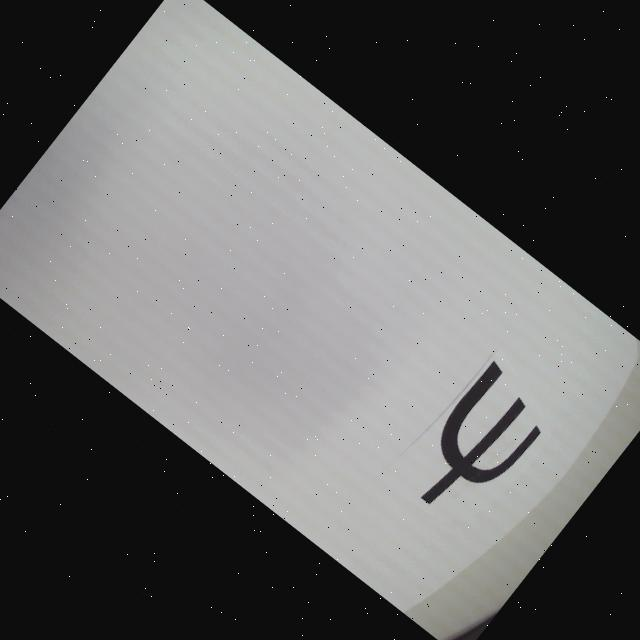PSI: (396, 358, 558, 532)
